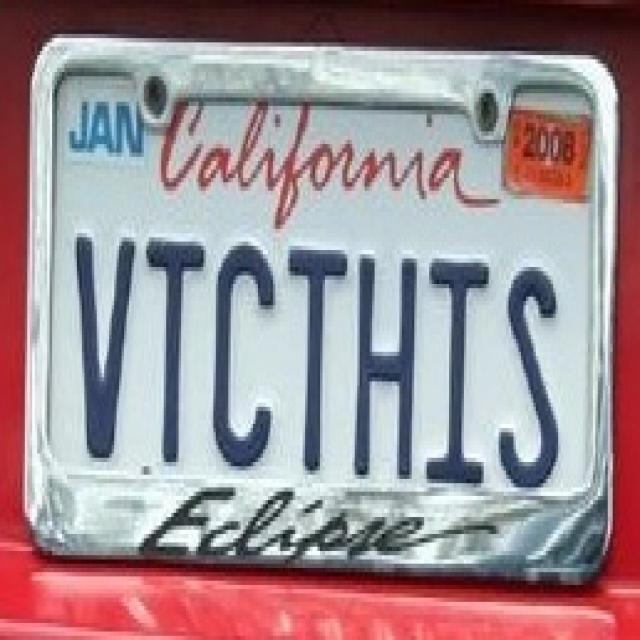licenseplate: (8, 12, 624, 622)
